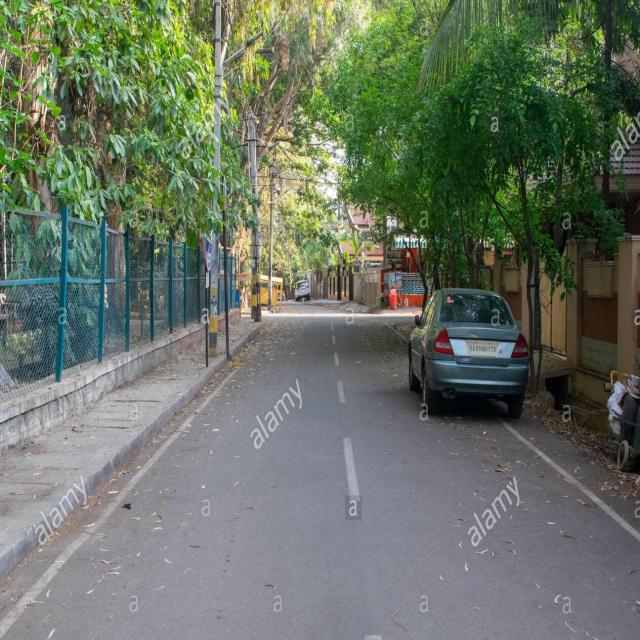Clean road: (6, 309, 640, 640)
